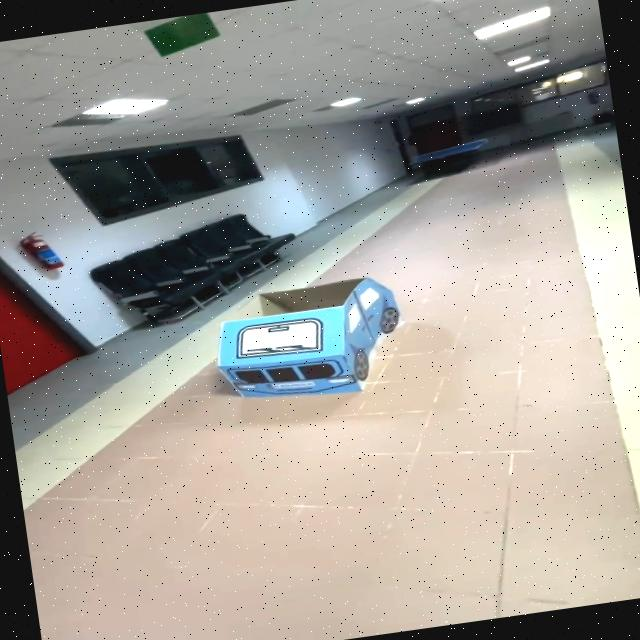blue_car: (186, 258, 423, 419)
